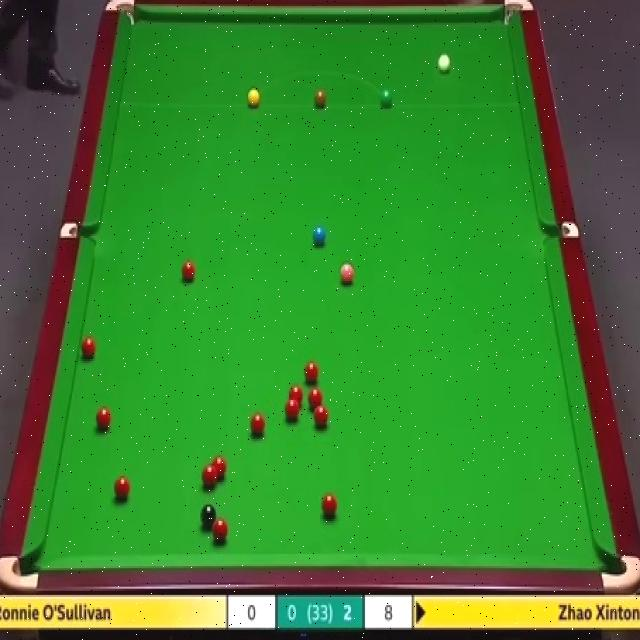black-ball: (199, 501, 218, 533)
blue-ball: (312, 224, 328, 249)
brown-ball: (314, 89, 327, 110)
green-ball: (378, 88, 392, 110)
pink-ball: (338, 258, 357, 287)
red-ball: (211, 519, 230, 547), (302, 359, 321, 385), (113, 475, 131, 502), (95, 404, 112, 432), (200, 465, 218, 490), (80, 334, 96, 361), (250, 414, 266, 438), (321, 494, 337, 518), (284, 398, 300, 422), (287, 384, 304, 406), (181, 259, 197, 282), (212, 455, 228, 477), (314, 404, 328, 427), (310, 390, 326, 408)
white-ball: (436, 50, 453, 77)
yellow-ball: (247, 88, 261, 109)
